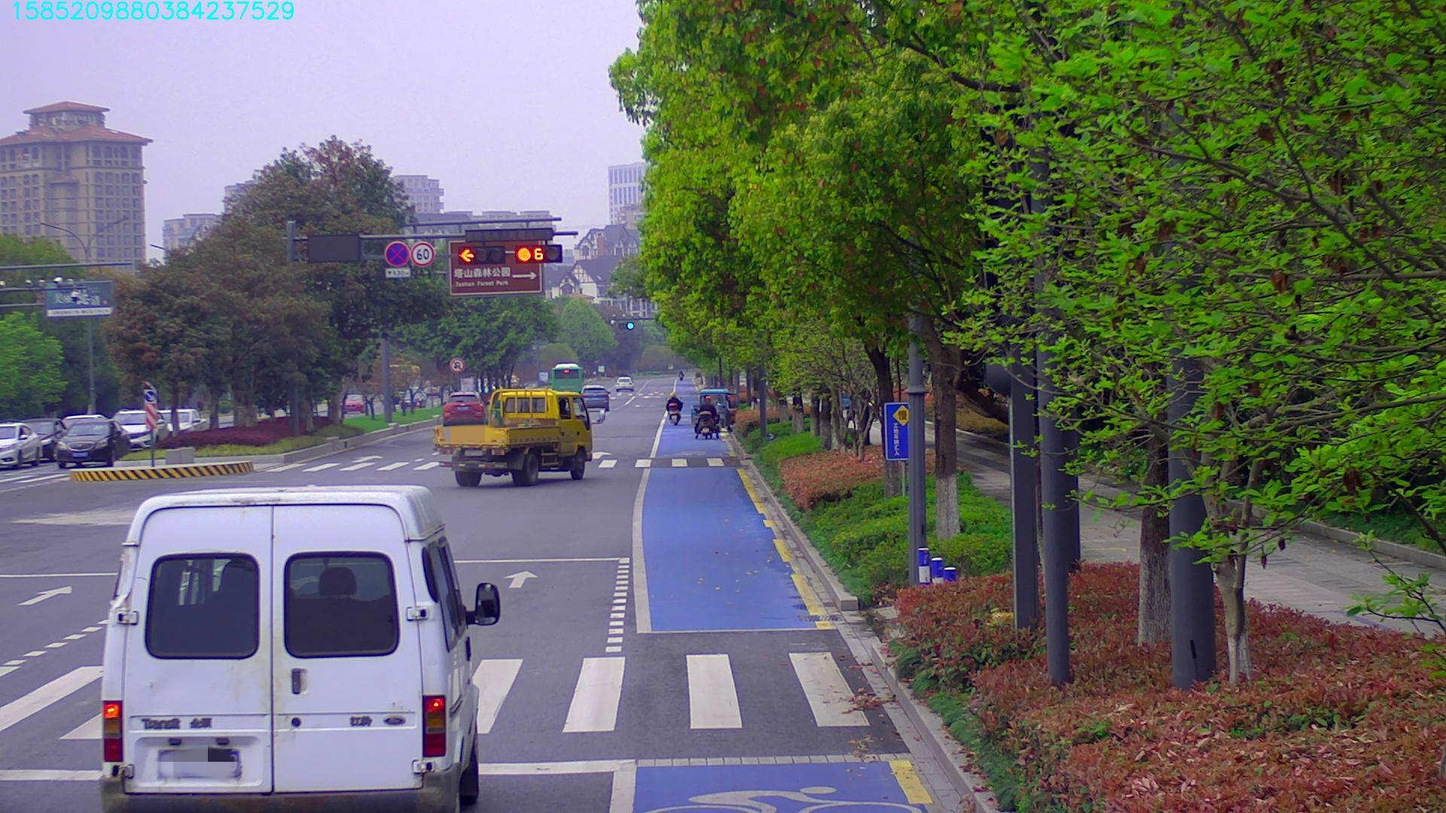red: (516, 242, 561, 263), (454, 247, 507, 261)
